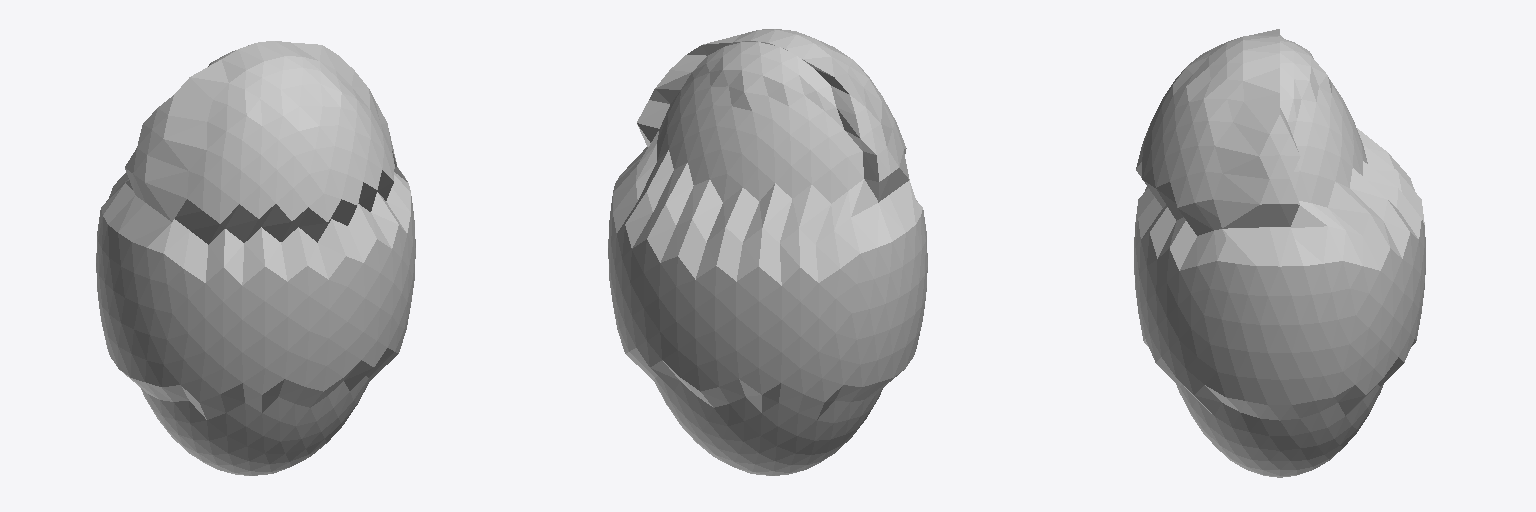
File: normal_baseline.obj
The picture shows the model from 3 angles: view 1: azimuth 30°, elevation 25°; view 2: azimuth 150°, elevation 25°; view 3: azimuth 270°, elevation 25°; orthographic projection.
Size of the model in its own units: 1.2 by 1.72 by 1.07.